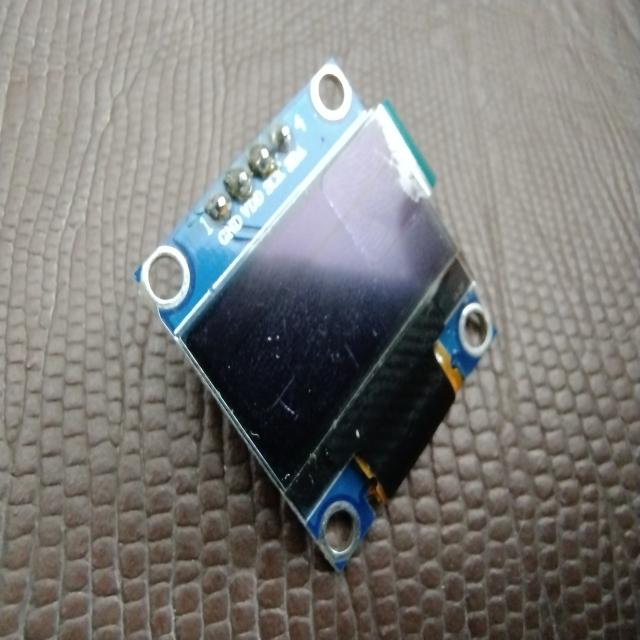oled: (133, 62, 498, 584)
